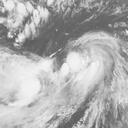cyclone: (65, 33, 114, 79)
